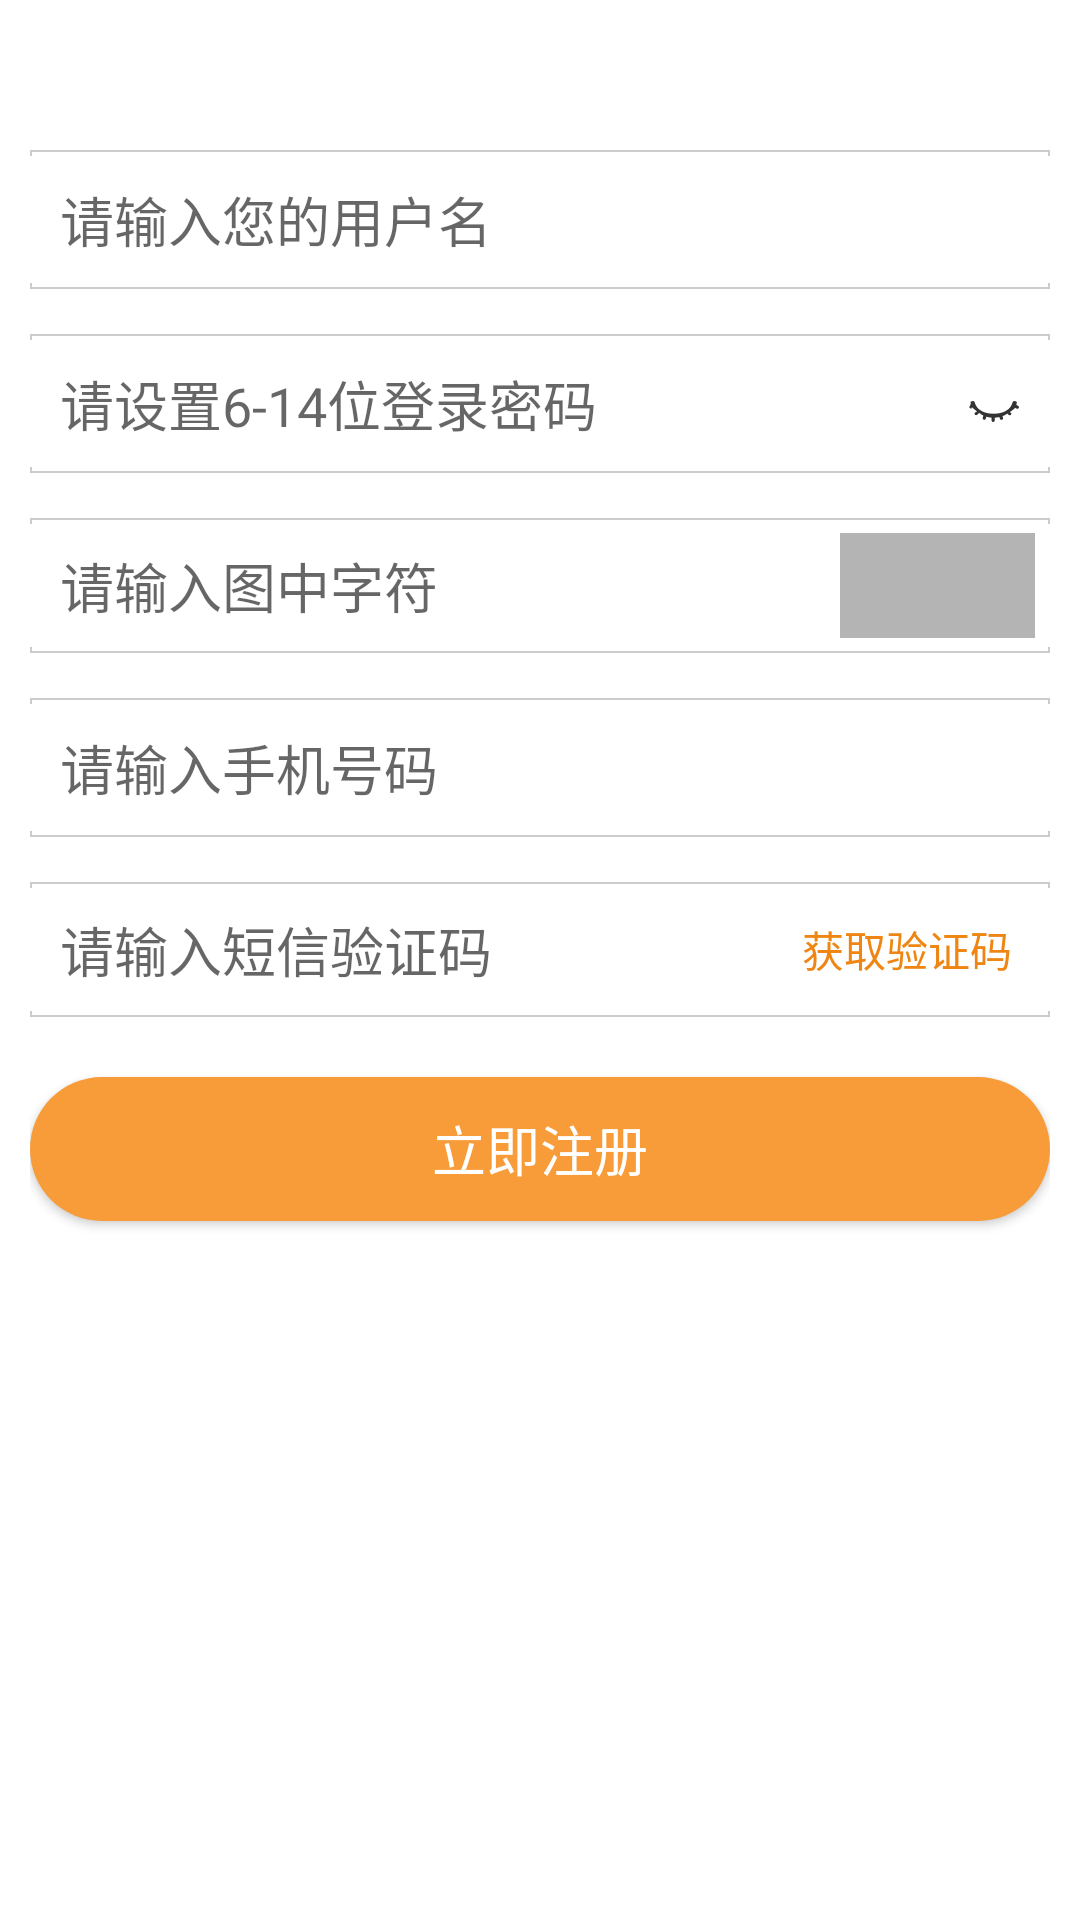

Where to tap for icons on this 1080px x 1920px app screen, as (x=x, y=y):
registration eye: (x=994, y=411)
